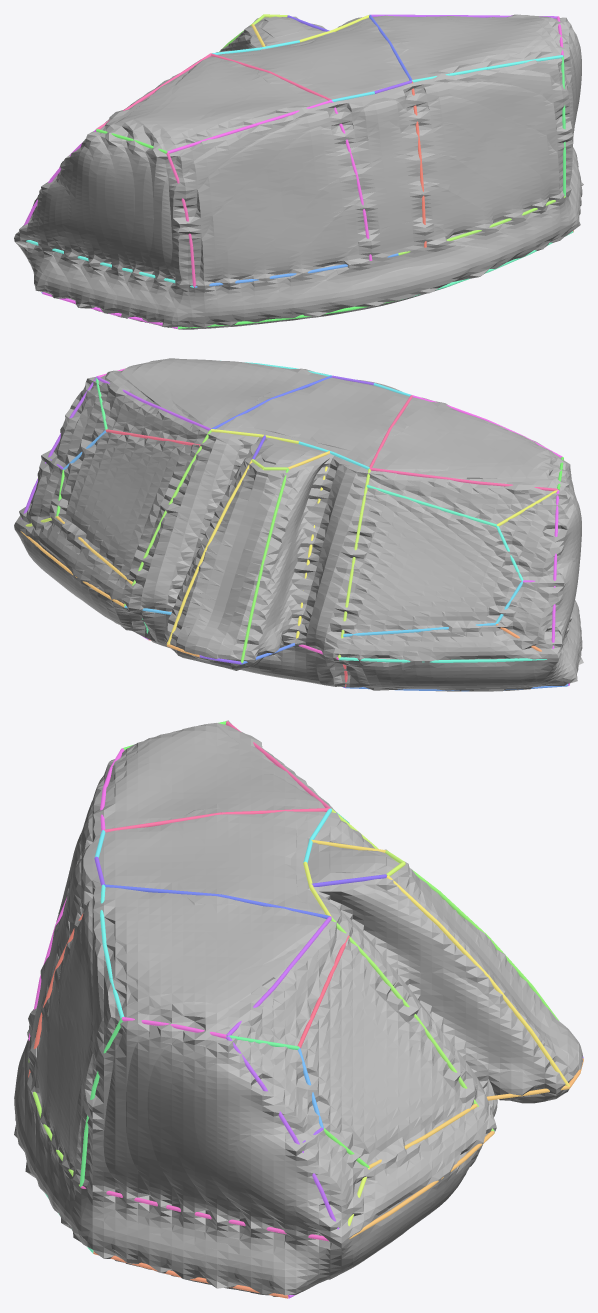
The model's file is ils_speaker.gltf.
The picture shows the model from 3 angles, top to bottom: view 1: azimuth 30°, elevation 25°; view 2: azimuth 150°, elevation 25°; view 3: azimuth 270°, elevation 25°; orthographic projection. The views are drawn at different scales.
Bounding box in the file's own units: 0.8233 × 0.3329 × 0.535.
